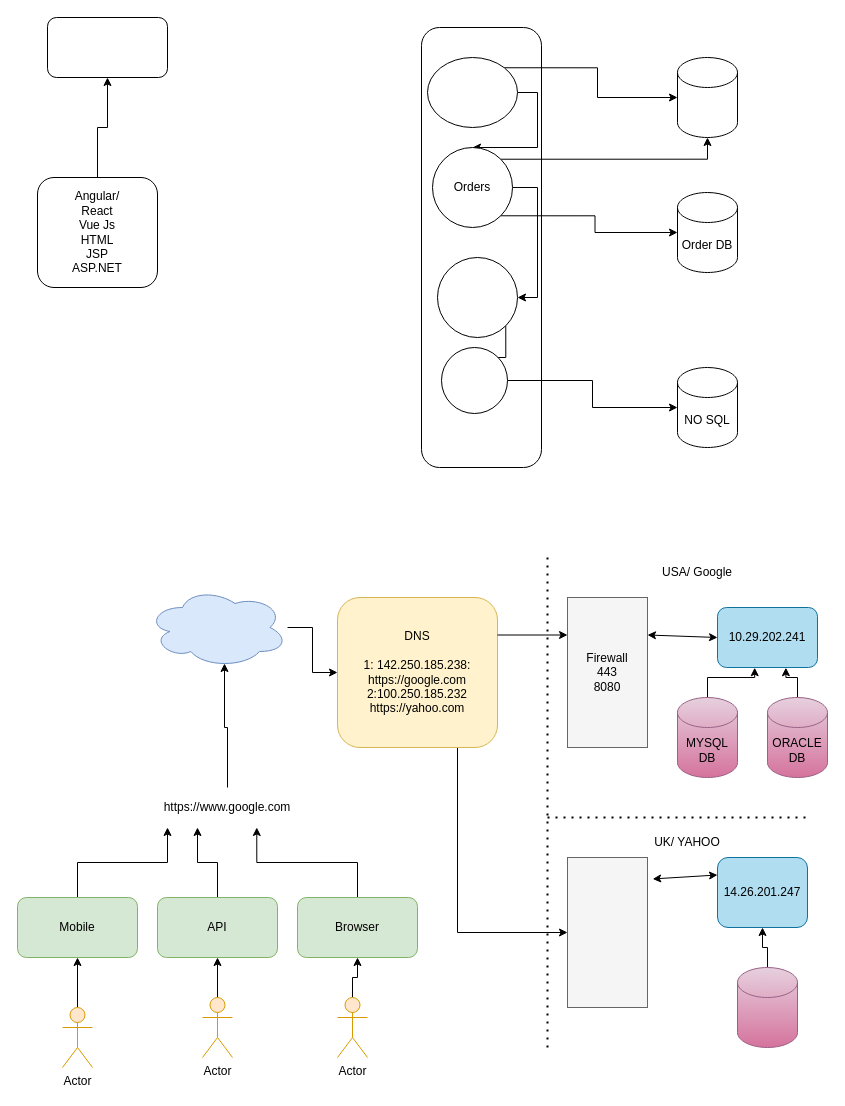
This 845x1106 diagram has some shape labels left out. The centre of each missing label's shape, as x and y in pixels:
Feedback: (474,380)
Firewall: (607,932)
Internet: (217,627)
Login: (472,92)
Mongo DB: (767,1007)
MYSQL: (707,97)
Node JS API/: (107,47)
Payments: (477,297)
